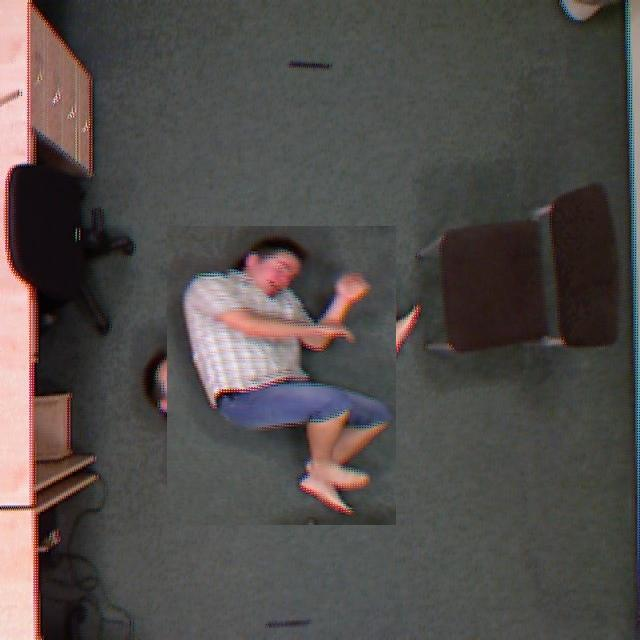Fall: (161, 221, 380, 554)
